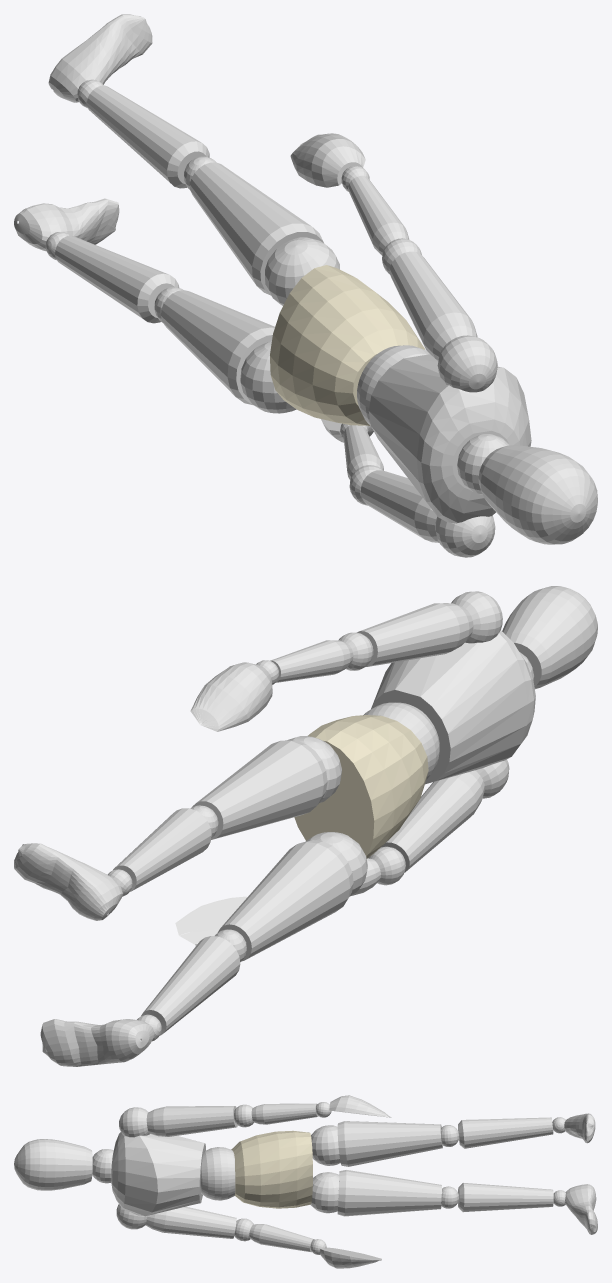
File: WOODMAN.glb
3 renders of one model, top to bottom at view 1: azimuth 30°, elevation 25°; view 2: azimuth 150°, elevation 25°; view 3: azimuth 270°, elevation 25°, orthographic. The views are drawn at different scales.
Parts seen in each view (by area): view 1: _0; view 2: _0; view 3: _0.
Part boxes in pixels (x1,y1,x2,y2): _0: (14,14,597,557); _0: (14,586,597,1066); _0: (14,1095,597,1268).
Size of the model in its own units: 1.22 by 2.18 by 6.86.
